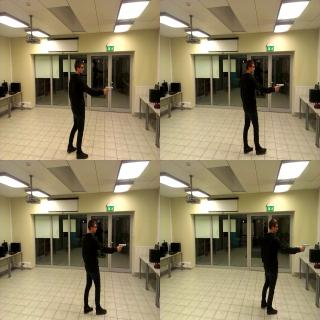gun: (114, 242, 126, 252), (103, 84, 113, 94), (274, 82, 284, 92), (300, 242, 310, 252)
